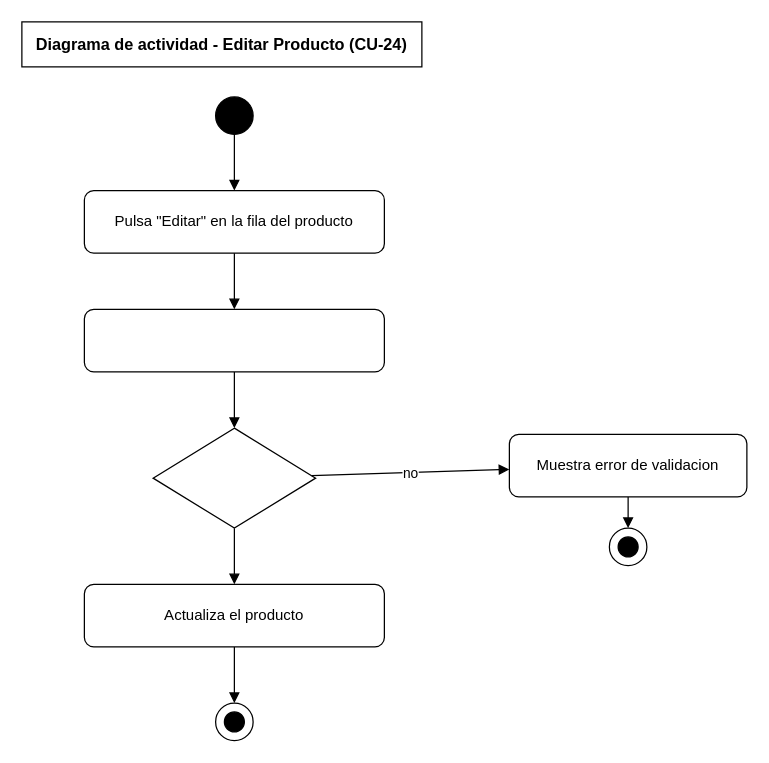
Some shapes in this 769 by 763 pixel diagram are drawn without their labels. The box of each missing label's shape, as (x1, y1, x2, y2) in pixels:
Cambia nombre y/o precio, pulsa "Guardar": (83, 308, 384, 372)
Nombre y precio validos?: (152, 427, 316, 528)
